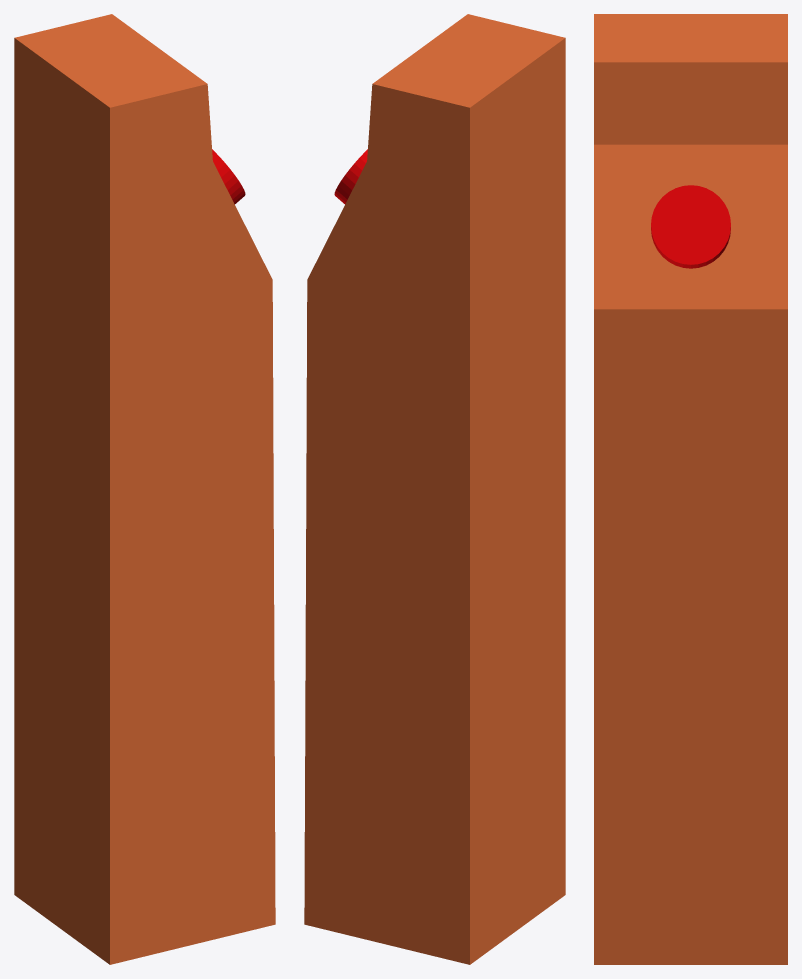
Rendered from button red.fbx.
3 renders of one model, left to right at view 1: azimuth 30°, elevation 25°; view 2: azimuth 150°, elevation 25°; view 3: azimuth 270°, elevation 25°, orthographic.
Parts seen in each view (by area): view 1: Cube, Cylinder; view 2: Cube, Cylinder; view 3: Cube, Cylinder.
Boxes of the visible parts, box(x1,y1,x2,y2) form: Cube: box(14, 14, 275, 964); Cylinder: box(212, 149, 245, 204); Cube: box(304, 14, 565, 964); Cylinder: box(334, 149, 367, 204); Cube: box(594, 14, 787, 964); Cylinder: box(651, 185, 730, 268).
Bounding box in the file's own units: 2041 × 9581 × 1937.
